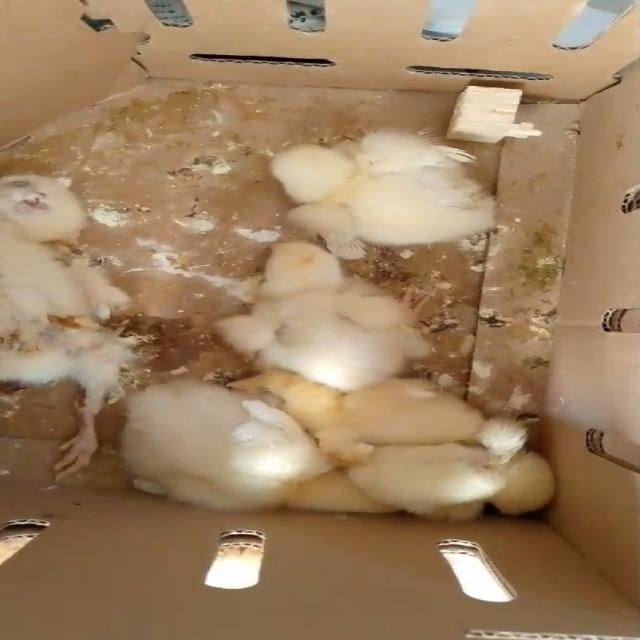dead: (164, 239, 475, 375), (244, 111, 502, 267), (0, 165, 121, 488), (100, 367, 332, 516), (201, 335, 472, 450)
